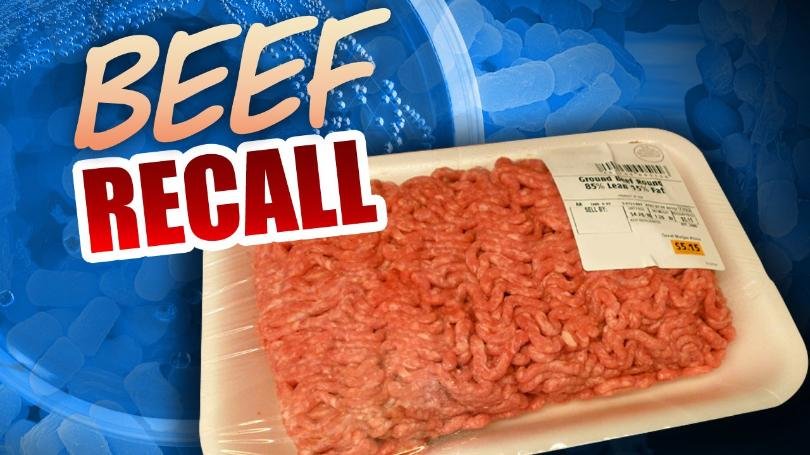ground_beef: (246, 148, 768, 432)
